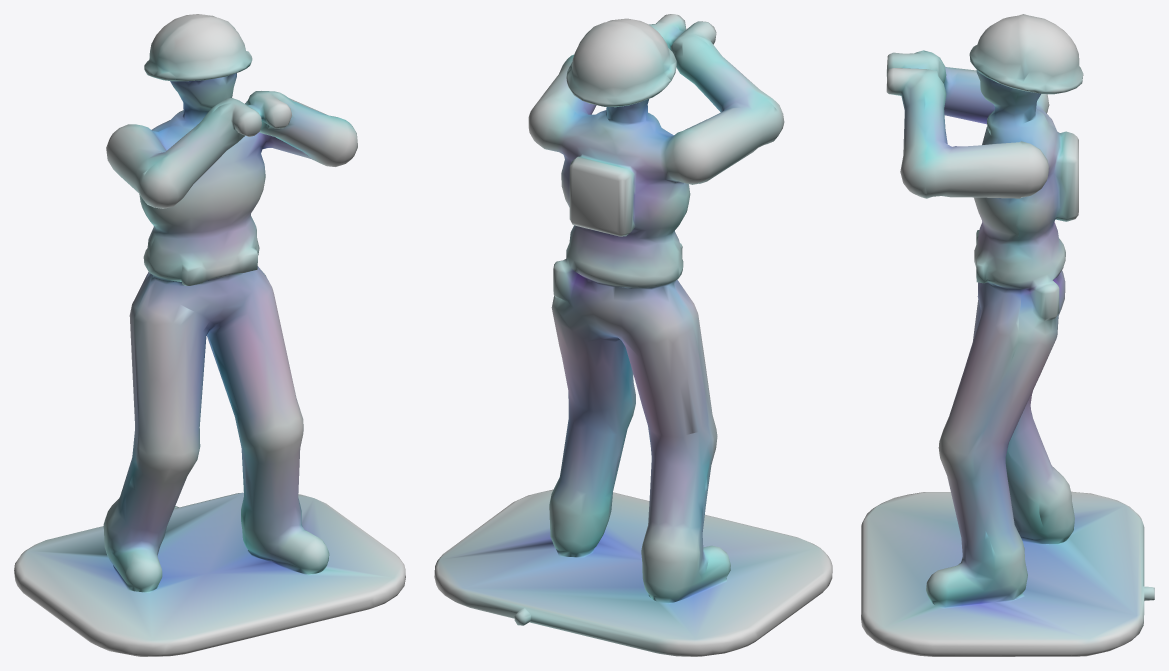
The model's file is marskal-lod1.glb.
3 renders of one model, left to right at view 1: azimuth 30°, elevation 25°; view 2: azimuth 150°, elevation 25°; view 3: azimuth 270°, elevation 25°, orthographic.
Visible parts, largest first — view 1: marskal-lod1; view 2: marskal-lod1; view 3: marskal-lod1.
Part boxes in pixels (x1,y1,x2,y2): marskal-lod1: (14,14,405,656); marskal-lod1: (434,14,832,656); marskal-lod1: (861,14,1154,656).
Bounding box in the file's own units: 0.46 × 0.7903 × 0.3733.
